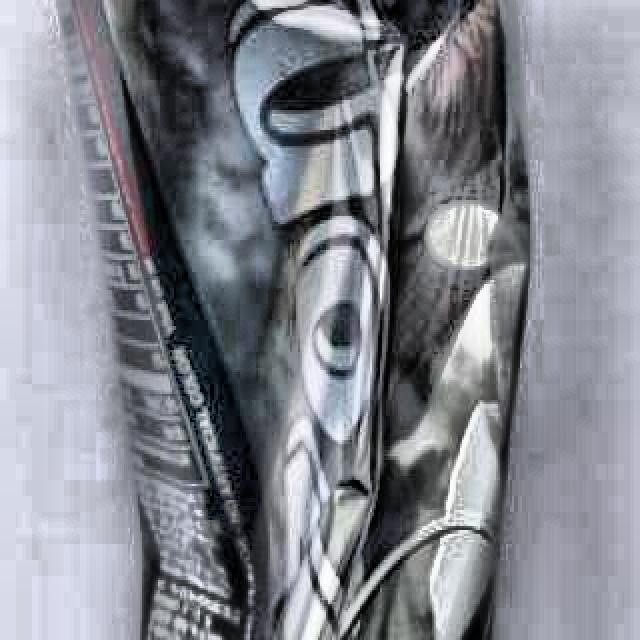metal: (51, 0, 538, 640)
